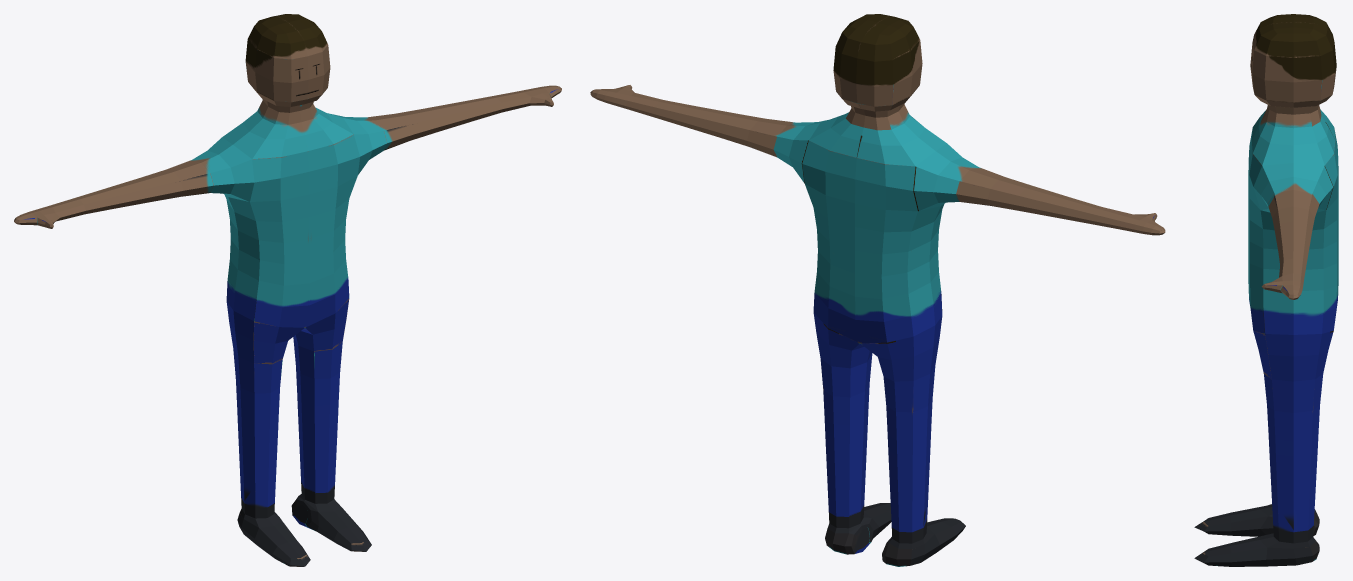
The model's file is character1.fbx.
The picture shows the model from 3 angles, left to right: view 1: azimuth 30°, elevation 25°; view 2: azimuth 150°, elevation 25°; view 3: azimuth 270°, elevation 25°; orthographic projection. The views are drawn at different scales.
Parts seen in each view (by area): view 1: Cube; view 2: Cube; view 3: Cube.
Part boxes in pixels (bbox=[...]): Cube: bbox=[14, 14, 561, 566]; Cube: bbox=[590, 14, 1165, 566]; Cube: bbox=[1194, 14, 1338, 566].
Bounding box in the file's own units: 284 × 251 × 62.62.
Materials: 1 (1 with a texture image).
